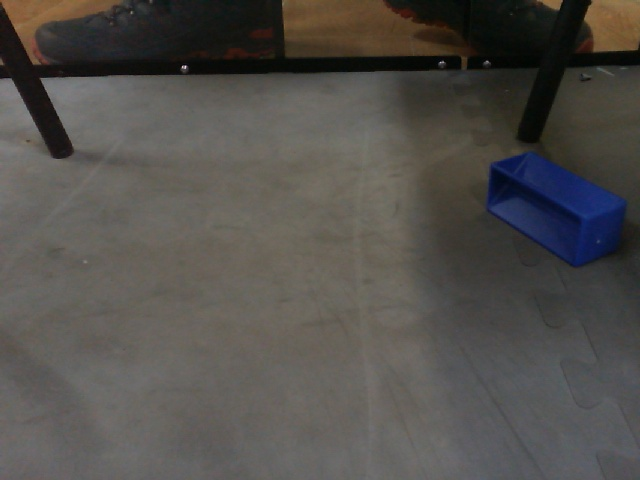BlueSample: (484, 150, 629, 271)
